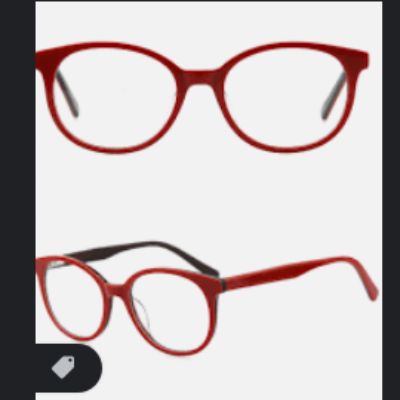glasses: (34, 237, 383, 363), (34, 39, 372, 165)
